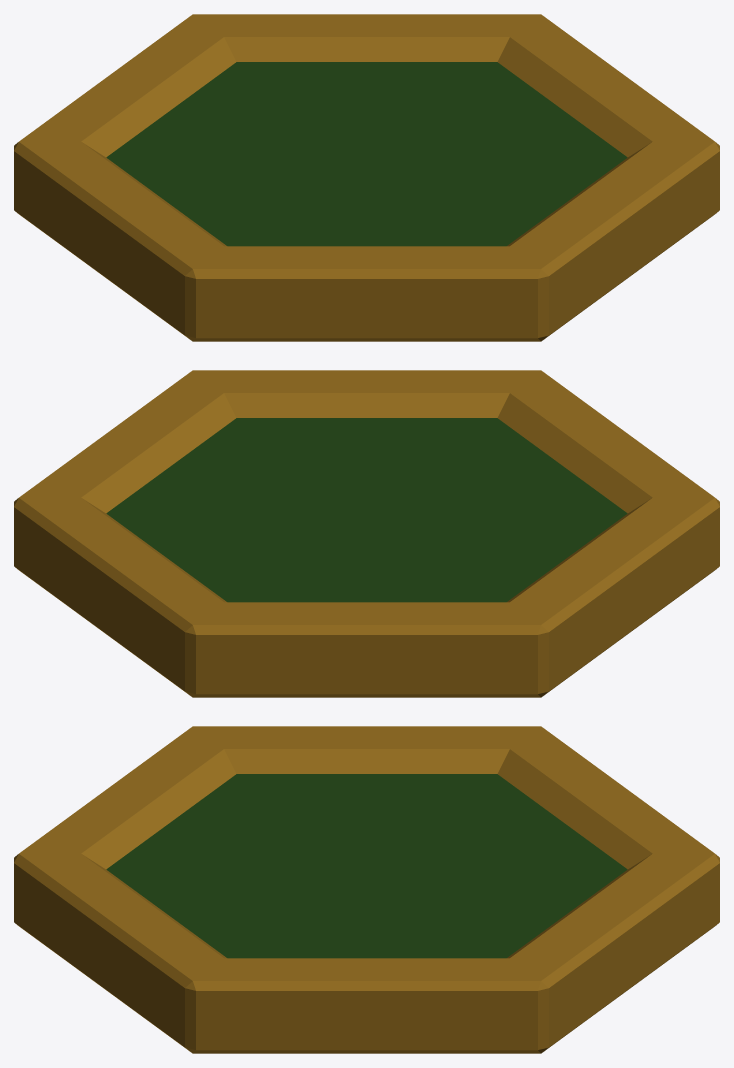
File: Tile_02.fbx
3 views of the same model, one above another, from view 1: azimuth 30°, elevation 25°; view 2: azimuth 150°, elevation 25°; view 3: azimuth 270°, elevation 25° (orthographic).
Parts seen in each view (by area): view 1: Cylinder.001; view 2: Cylinder.001; view 3: Cylinder.001.
Part boxes in pixels (x1,y1,x2,y2): Cylinder.001: (14, 14, 719, 341); Cylinder.001: (14, 370, 719, 697); Cylinder.001: (14, 726, 719, 1053).
Size of the model in its own units: 329 by 42.72 by 376.
